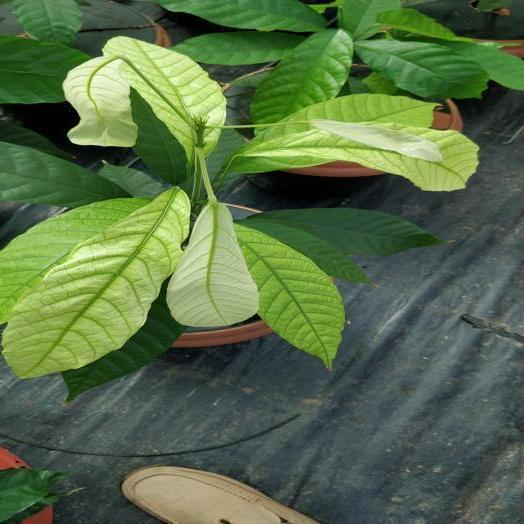Iron: (4, 189, 188, 377), (0, 198, 147, 323), (236, 223, 344, 367), (231, 128, 477, 190), (103, 37, 225, 159), (166, 201, 257, 325), (260, 94, 437, 137), (63, 58, 137, 145), (309, 120, 442, 161)
